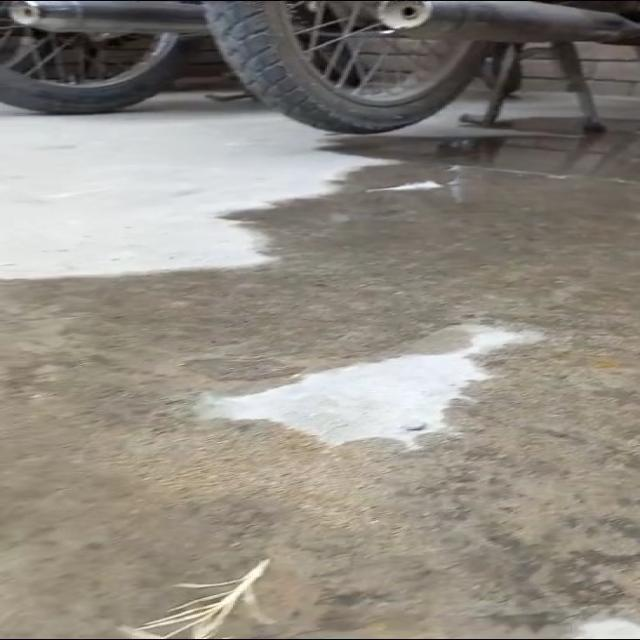water accumulation: (1, 110, 640, 640)
